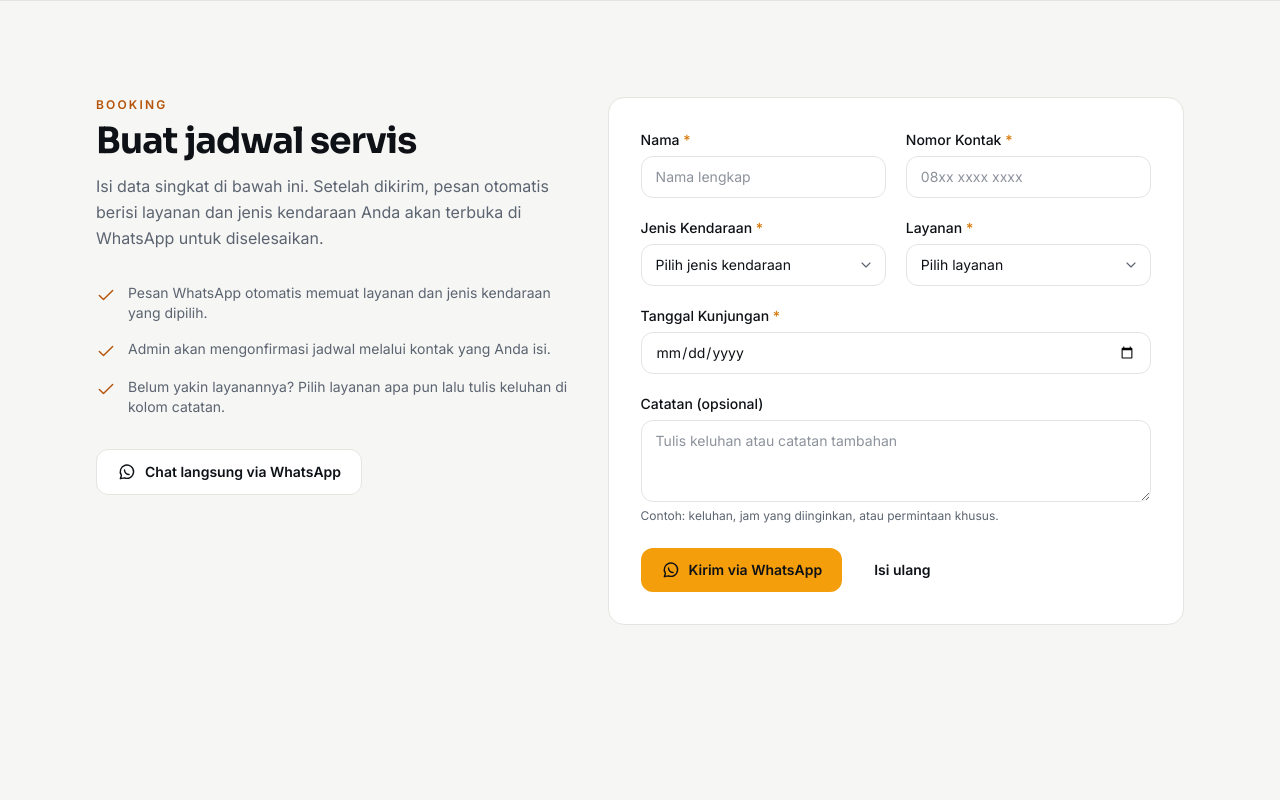
it: Booking › shows validation errors and does not open WhatsApp on an empty submit
Click the button "Kirim via WhatsApp": coordinates (741, 570) x1=641 y1=548 x2=842 y2=592
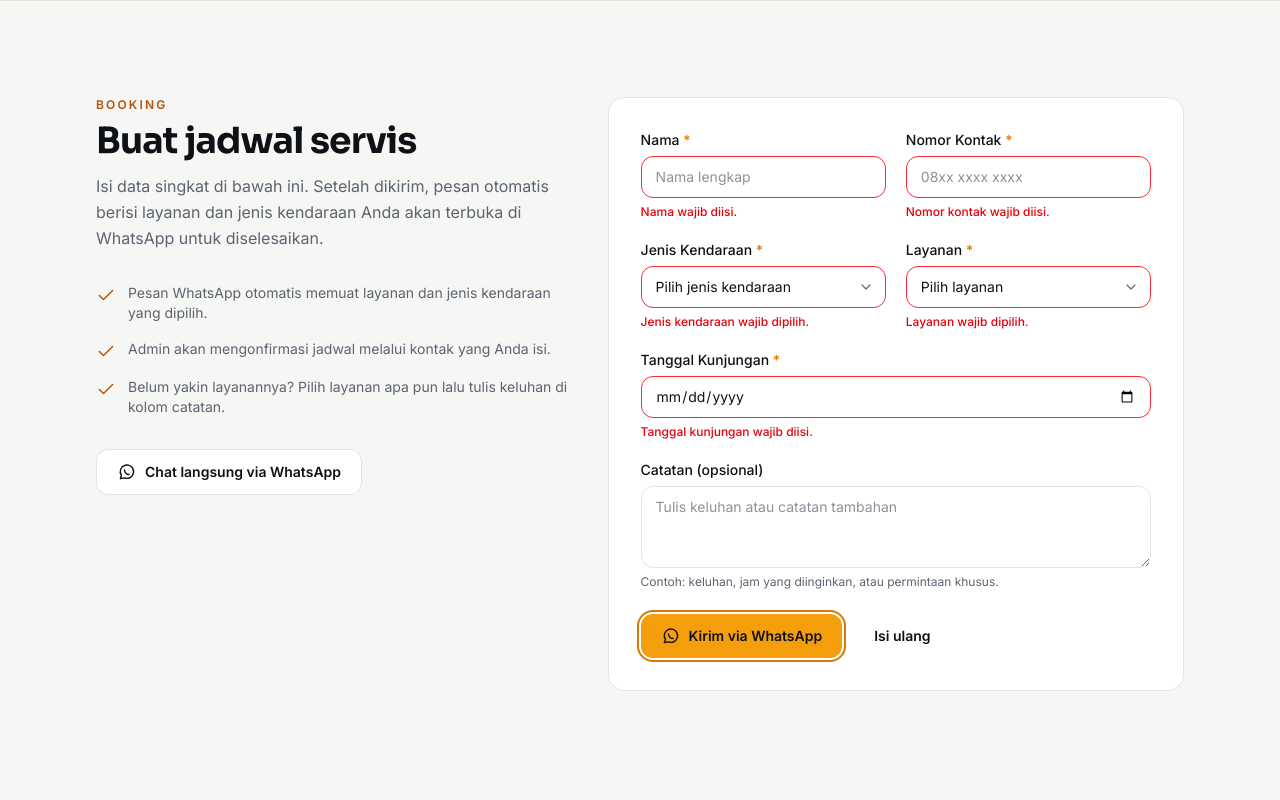
Expected: the text "Nama wajib diisi." is shown, x1=641 y1=204 x2=737 y2=219
